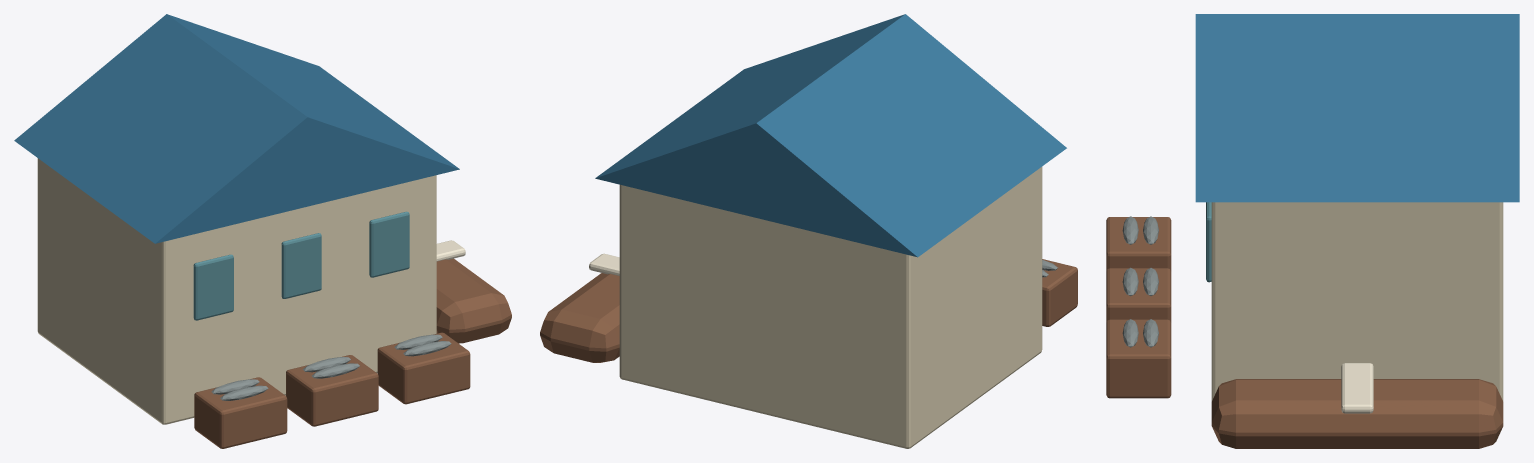
File: fishery.glb
The picture shows the model from 3 angles, left to right: view 1: azimuth 30°, elevation 25°; view 2: azimuth 150°, elevation 25°; view 3: azimuth 270°, elevation 25°; orthographic projection. The views are drawn at different scales.
Parts seen in each view (by area): view 1: fishery_plaster, fishery_navy, fishery_timber, fishery_glass, fishery_steel; view 2: fishery_plaster, fishery_navy, fishery_timber, fishery_ivory; view 3: fishery_navy, fishery_plaster, fishery_timber, fishery_steel, fishery_ivory, fishery_glass.
Boxes of the visible parts, bbox=[...] form: fishery_plaster: bbox=[37, 158, 436, 424]; fishery_navy: bbox=[14, 14, 459, 243]; fishery_timber: bbox=[194, 258, 511, 448]; fishery_glass: bbox=[193, 211, 409, 320]; fishery_steel: bbox=[211, 334, 451, 400]; fishery_plaster: bbox=[619, 167, 1042, 448]; fishery_navy: bbox=[595, 14, 1066, 257]; fishery_timber: bbox=[540, 259, 1077, 362]; fishery_ivory: bbox=[589, 253, 619, 275]; fishery_navy: bbox=[1195, 14, 1519, 202]; fishery_plaster: bbox=[1211, 202, 1503, 401]; fishery_timber: bbox=[1106, 217, 1503, 448]; fishery_steel: bbox=[1122, 216, 1158, 347]; fishery_ivory: bbox=[1341, 363, 1373, 413]; fishery_glass: bbox=[1206, 202, 1211, 282].
Size of the model in its own units: 6.15 by 4.4 by 5.1.
